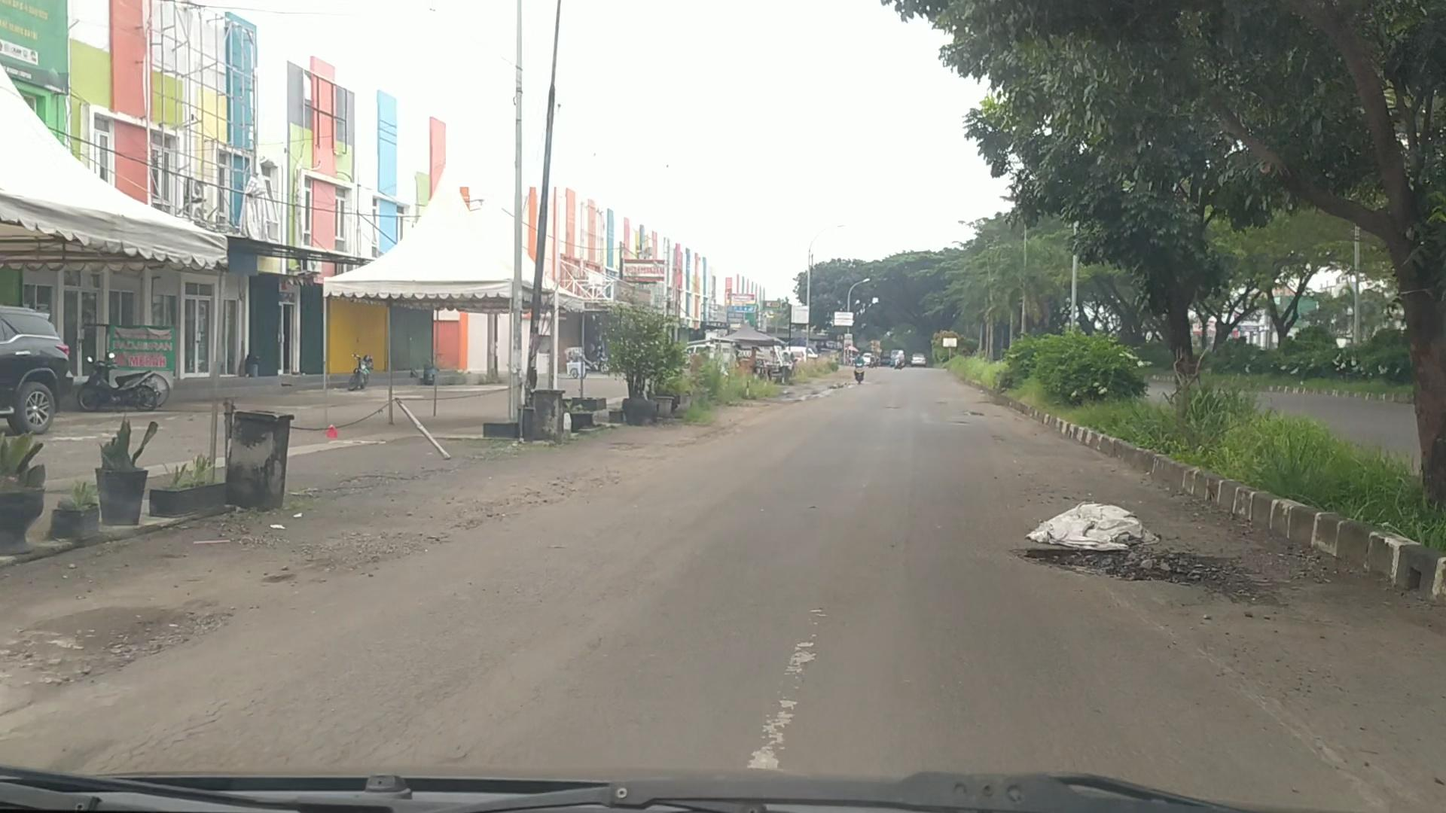pothole: (1008, 544, 1286, 608)
